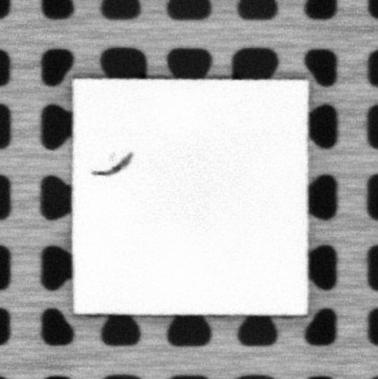DIE_INK: (91, 152, 133, 177)
